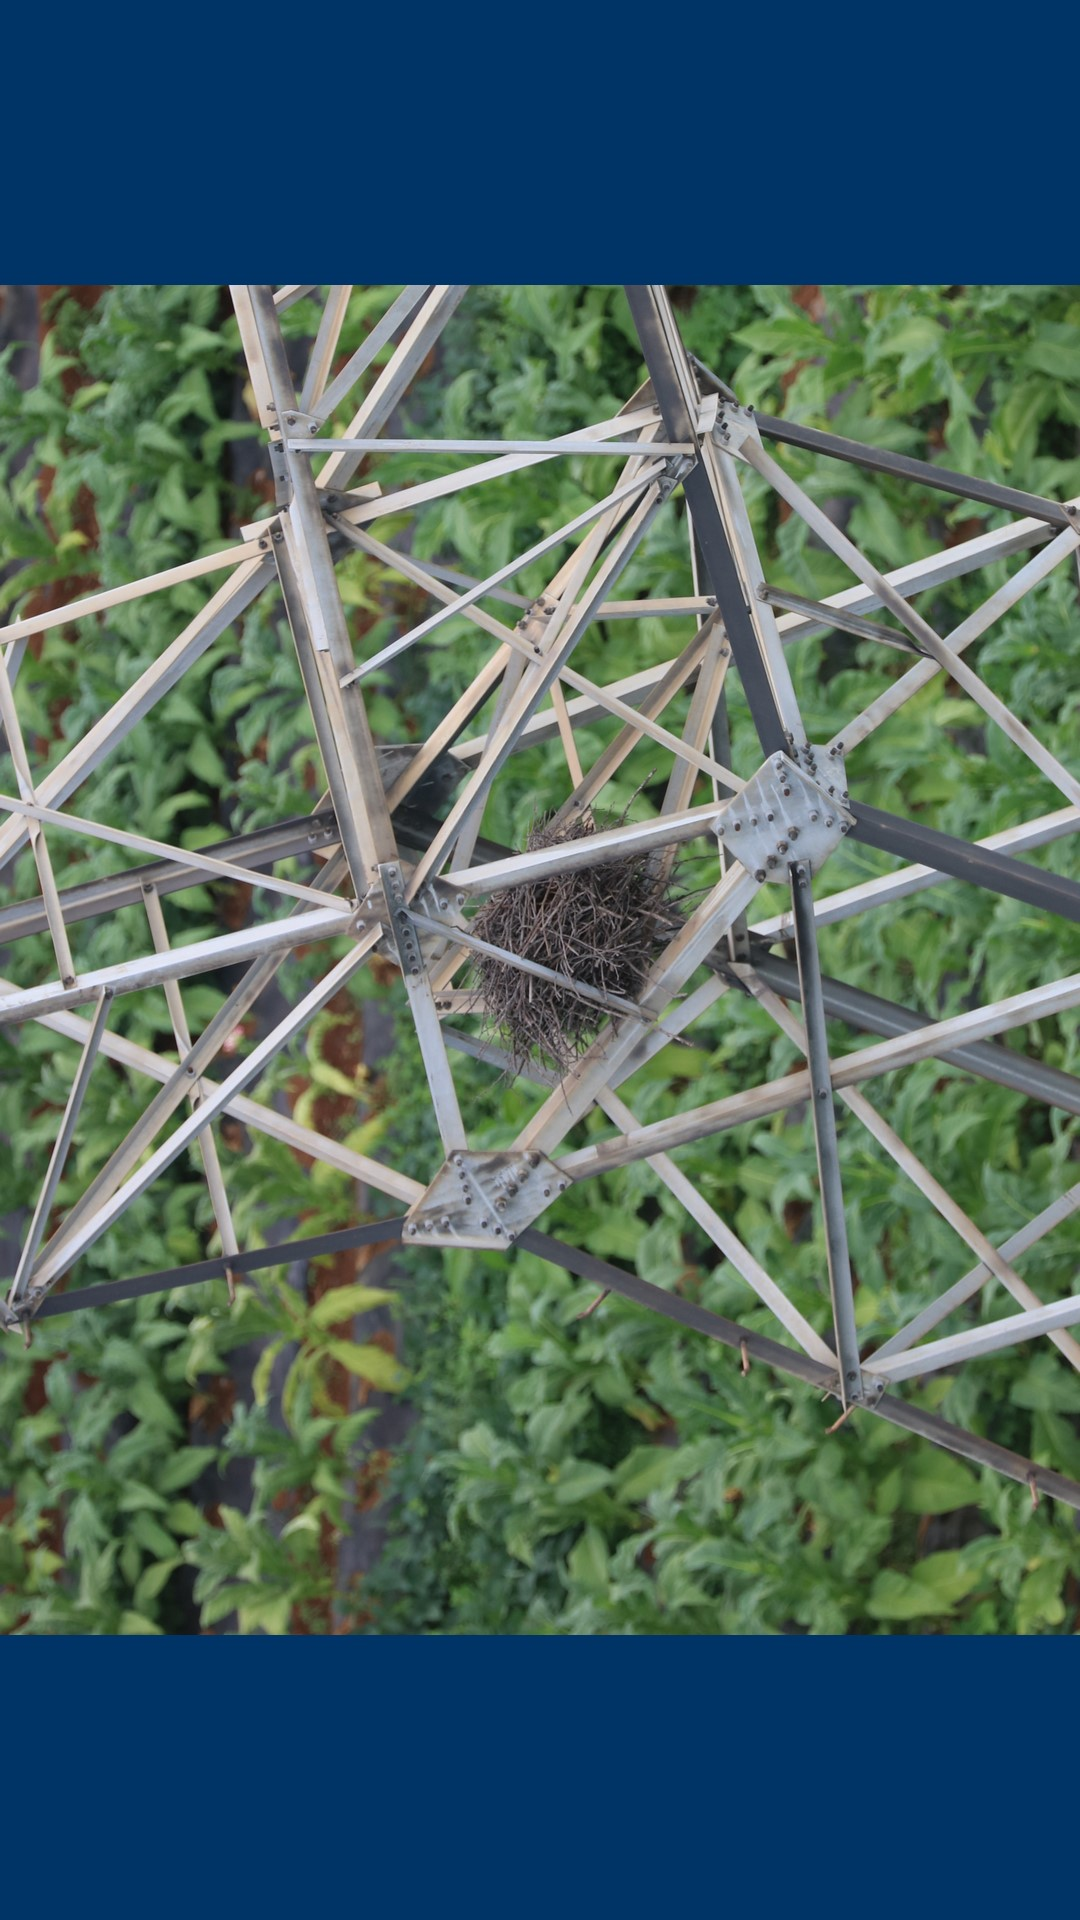niaowo: (448, 793, 705, 1098)
